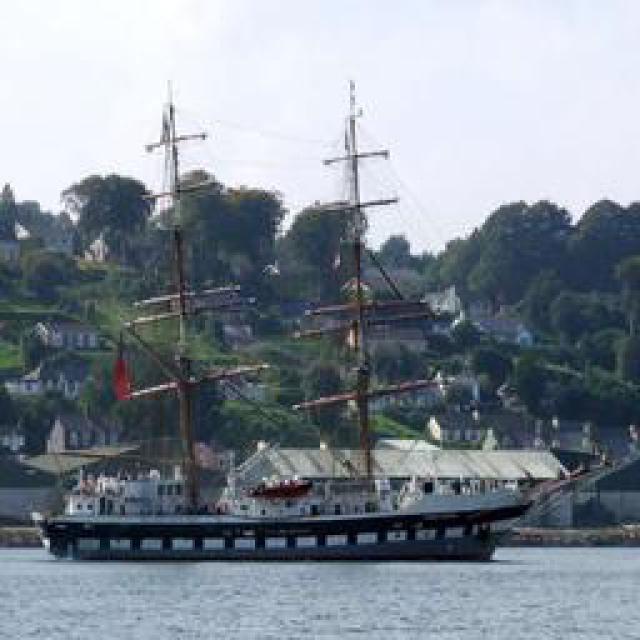Ship: (43, 471, 538, 561)
